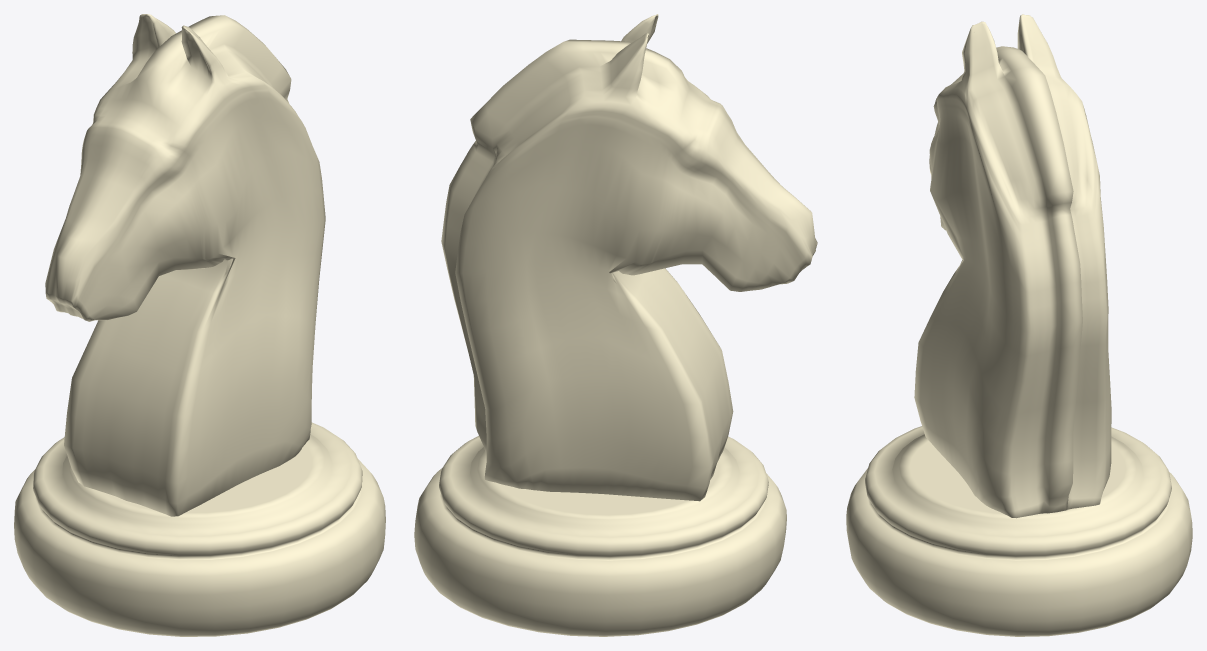
The model's file is Horse.fbx.
The picture shows the model from 3 angles, left to right: view 1: azimuth 30°, elevation 25°; view 2: azimuth 150°, elevation 25°; view 3: azimuth 270°, elevation 25°; orthographic projection. The views are drawn at different scales.
Visible parts, largest first — view 1: Horse; view 2: Horse; view 3: Horse.
Part boxes in pixels (x1,y1,x2,y2): Horse: (14, 14, 385, 636); Horse: (414, 14, 817, 636); Horse: (846, 14, 1192, 636).
Bounding box in the file's own units: 186 × 286 × 169.
